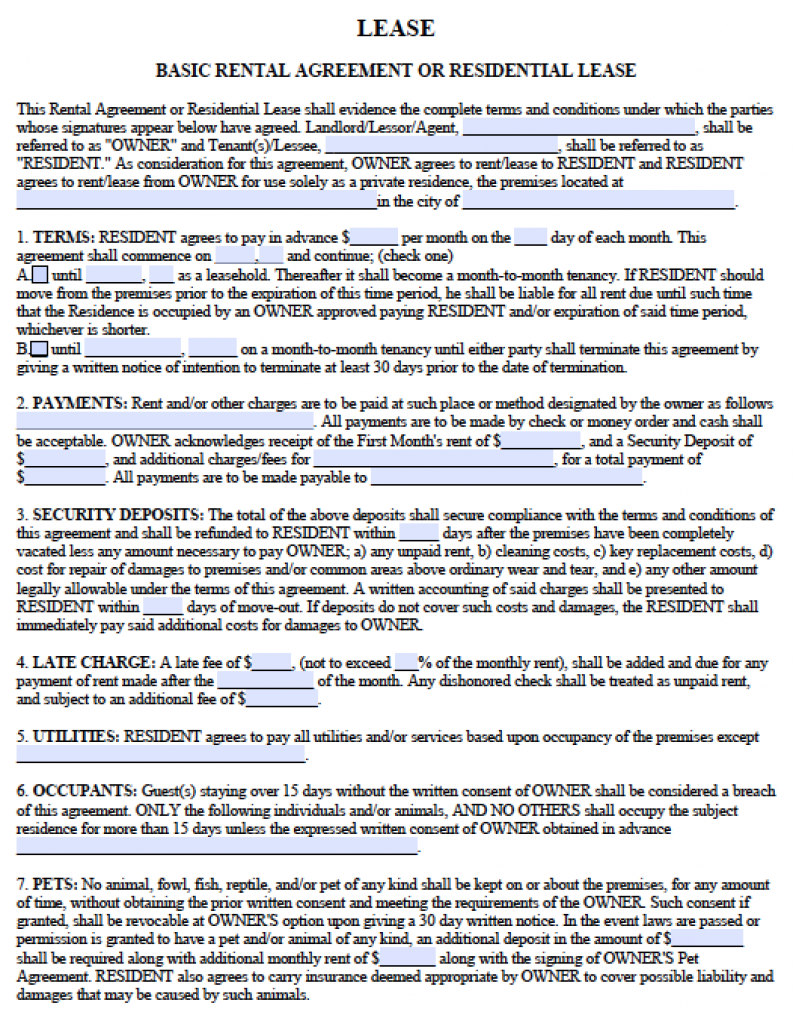textline: (10, 187, 378, 216), (10, 404, 318, 436), (11, 838, 424, 861), (11, 740, 308, 770), (462, 185, 734, 217), (310, 446, 560, 473), (459, 114, 701, 141), (369, 472, 649, 494), (324, 136, 560, 158), (78, 332, 183, 361), (215, 672, 314, 695), (497, 428, 583, 454), (181, 328, 241, 364), (21, 450, 108, 474), (668, 930, 747, 955), (19, 471, 110, 490), (241, 692, 321, 713), (373, 945, 437, 970), (84, 264, 145, 290), (392, 521, 444, 544), (510, 226, 550, 255), (139, 593, 185, 618), (247, 653, 297, 676), (347, 226, 395, 248), (213, 248, 258, 271), (142, 262, 177, 288), (388, 651, 422, 676), (257, 244, 284, 266)
